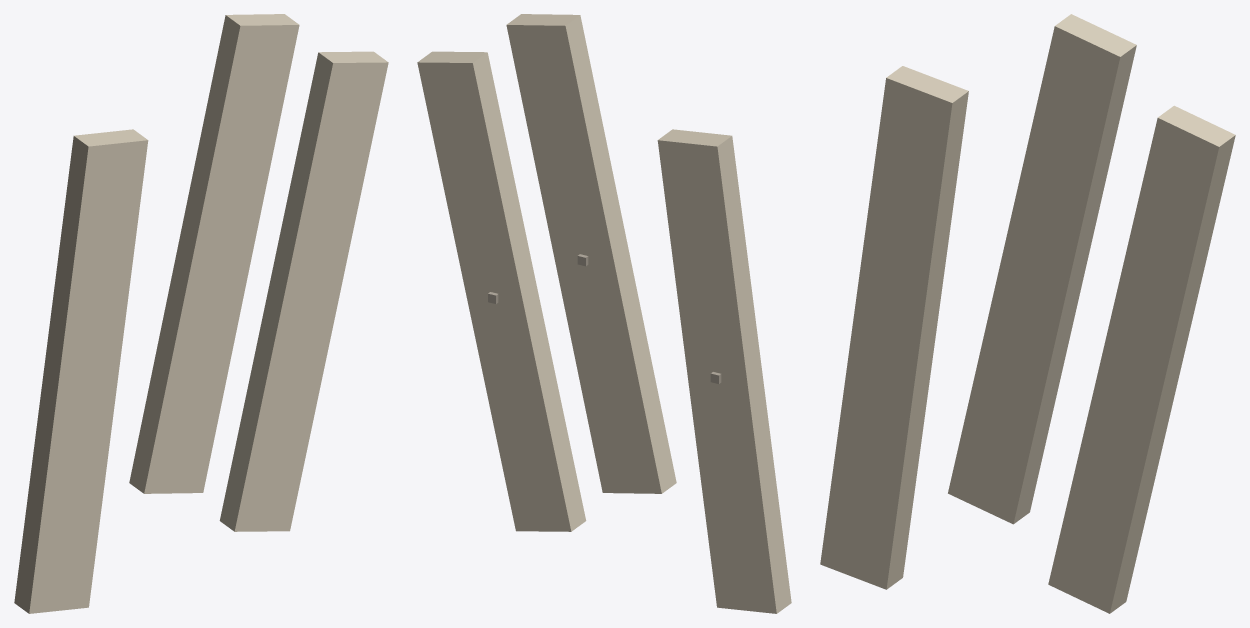
The model's file is historic-palestine-14_38_3562_3328.glb.
The picture shows the model from 3 angles, left to right: view 1: azimuth 30°, elevation 25°; view 2: azimuth 150°, elevation 25°; view 3: azimuth 330°, elevation 25°; orthographic projection. The views are drawn at different scales.
Visible parts, largest first — view 1: Building_.001, Building_.002, Building_; view 2: Building_.001, Building_.002, Building_; view 3: Building_.002, Building_.001, Building_.
Boxes of the visible parts, x1,y1,x2,y2 form: Building_.001: (129, 14, 299, 493); Building_.002: (14, 129, 148, 613); Building_: (219, 51, 388, 531); Building_.001: (506, 14, 676, 493); Building_.002: (657, 129, 791, 613); Building_: (417, 51, 586, 531); Building_.002: (820, 66, 968, 589); Building_.001: (948, 14, 1136, 524); Building_: (1048, 105, 1235, 613).
Size of the model in its own units: 105 by 152 by 8.7.
